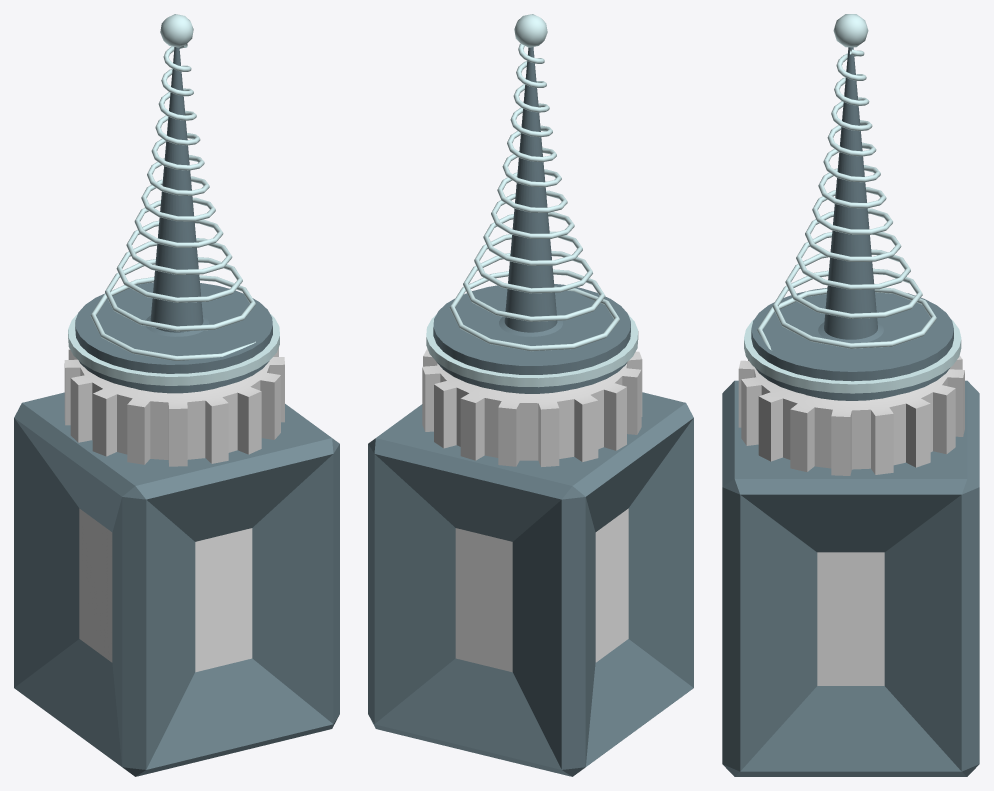
Rendered from button.fbx.
3 views of the same model, side by side, from view 1: azimuth 30°, elevation 25°; view 2: azimuth 150°, elevation 25°; view 3: azimuth 270°, elevation 25° (orthographic). The views are drawn at different scales.
Parts seen in each view (by area): view 1: base, button 01; view 2: base, button 01; view 3: base, button 01.
Boxes of the visible parts, <box> form: base: <box>14,392,339,776</box>; button 01: <box>64,14,284,466</box>; base: <box>368,392,693,776</box>; button 01: <box>422,14,642,466</box>; base: <box>722,380,979,776</box>; button 01: <box>738,14,964,475</box>.
Size of the model in its own units: 56.47 by 173 by 56.47.
